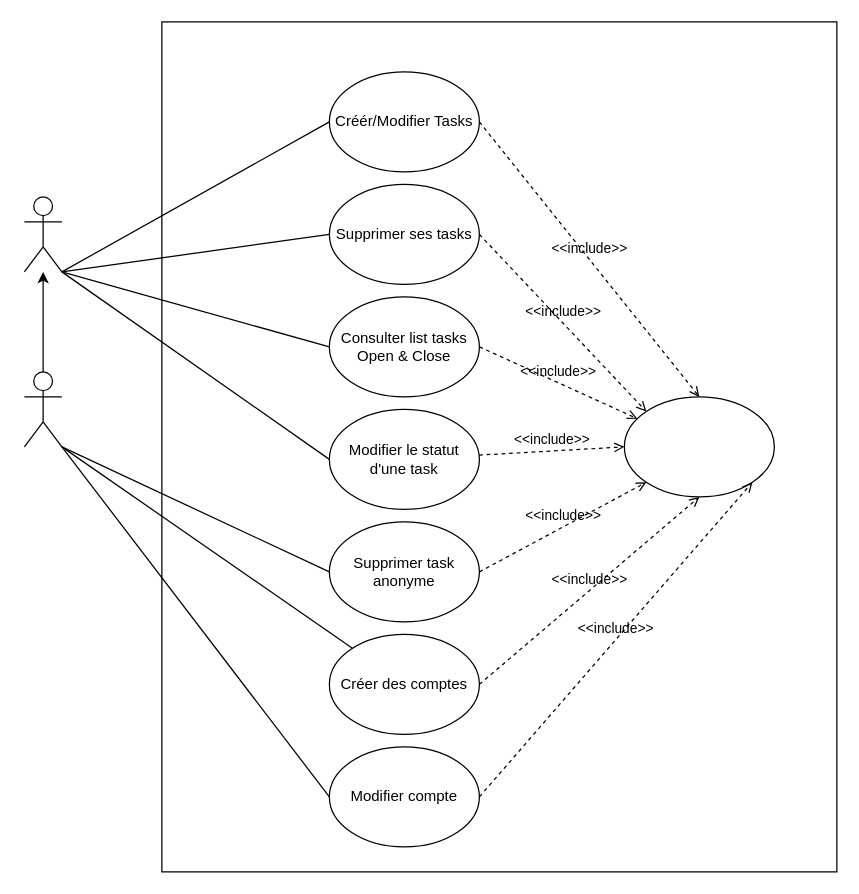
Some shapes in this 859 by 894 pixel diagram are drawn without their labels. The shapes that lost their labels are listed below. From the top down, each one's centre as x and y in pixels, then its label:
At point (42, 234): "User".
At point (42, 409): "Admin".
At point (698, 446): "Authentification".
